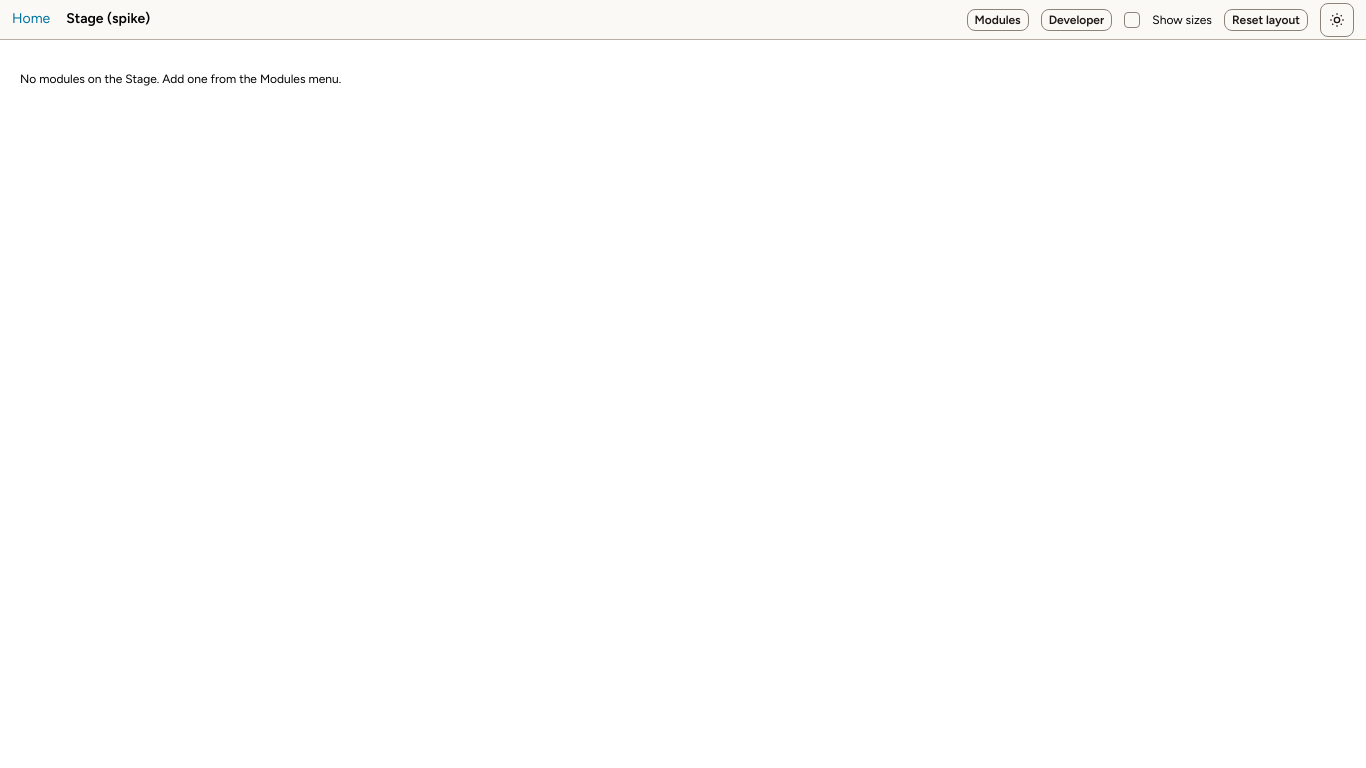
Test: Developer option › does not snap while typing, clamps on blur and persists
The width and height of the screenshot is (1366, 768).
Click the button "Developer": (1076, 20) [1041,8,1112,30]
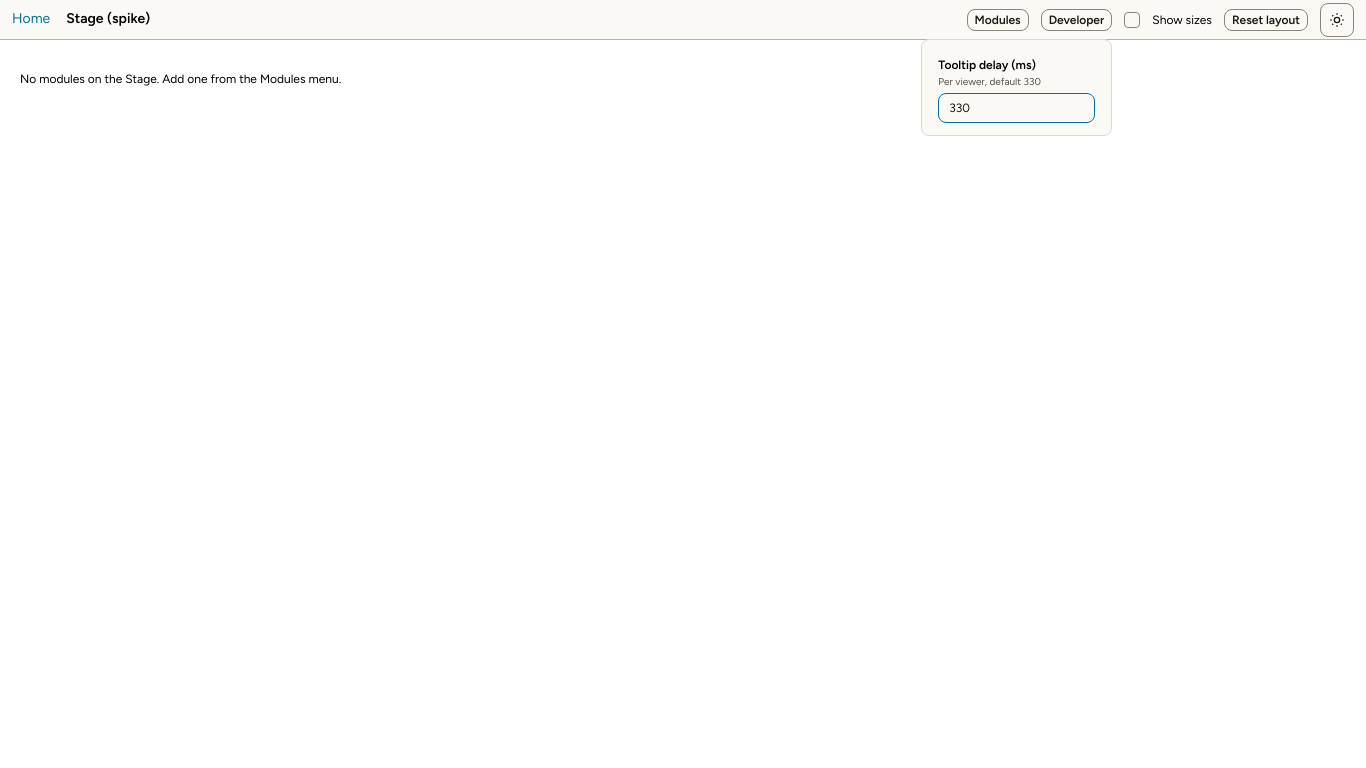
Now the field labelled "Tooltip delay (ms)" holds "330"
Clear the field labelled "Tooltip delay (ms)": (1017, 108) [938,93,1095,123]
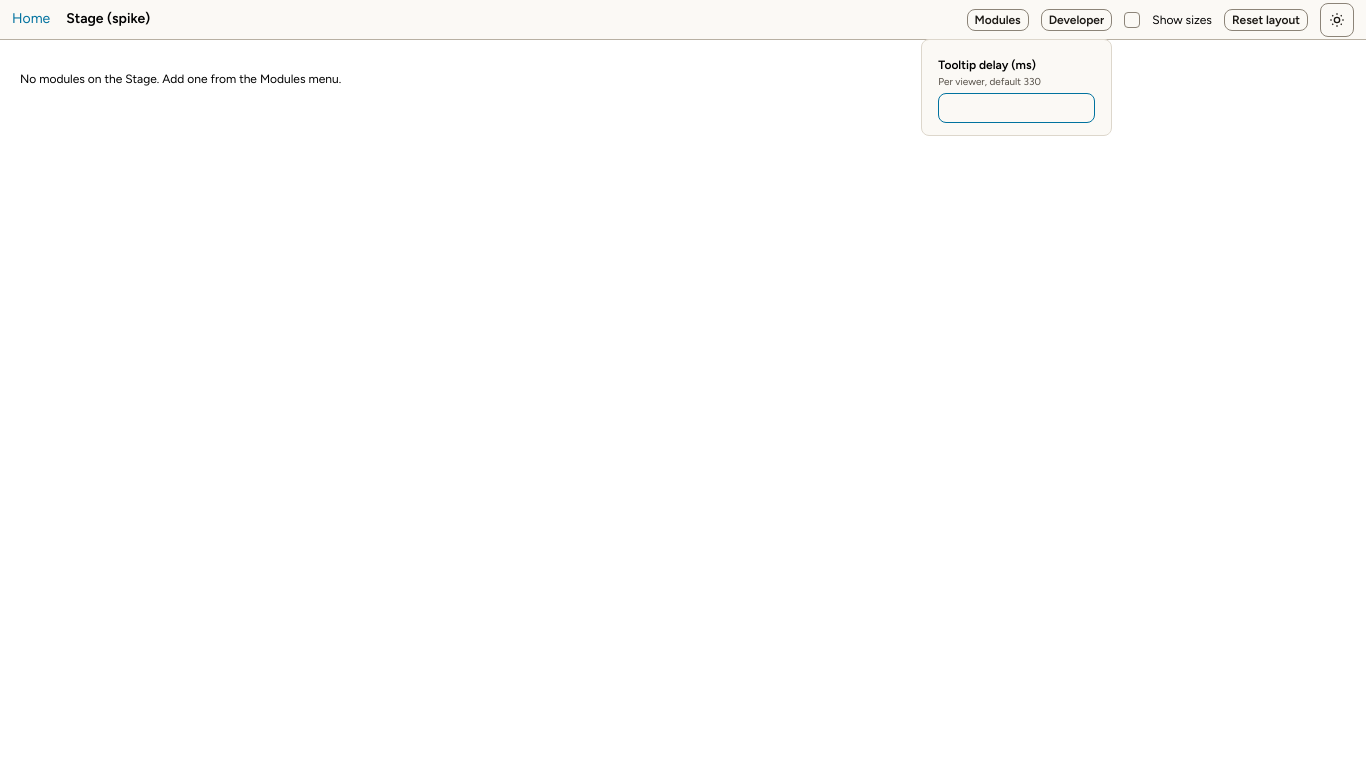
In the field labelled "Tooltip delay (ms)": (1017, 108) [938,93,1095,123], type "9999"
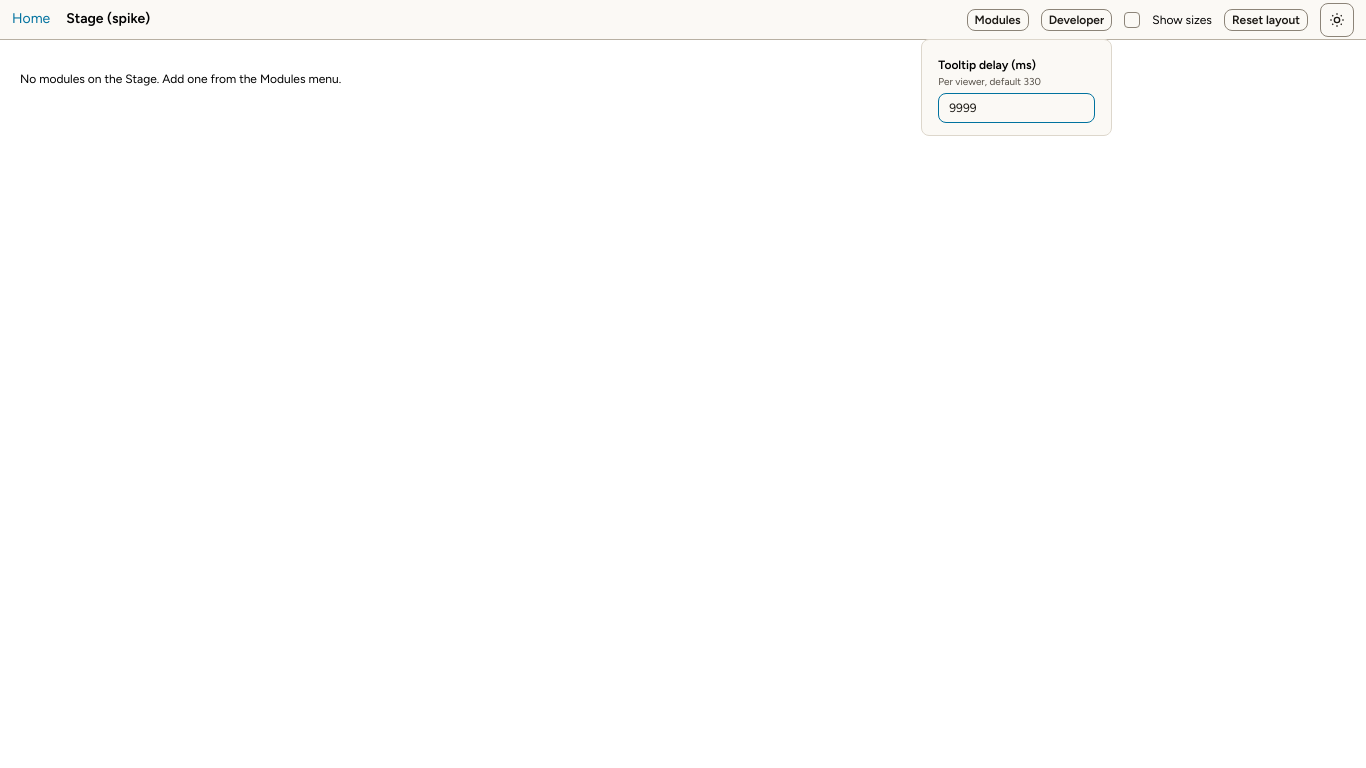
Leave the field labelled "Tooltip delay (ms)", box [938,93,1095,123]
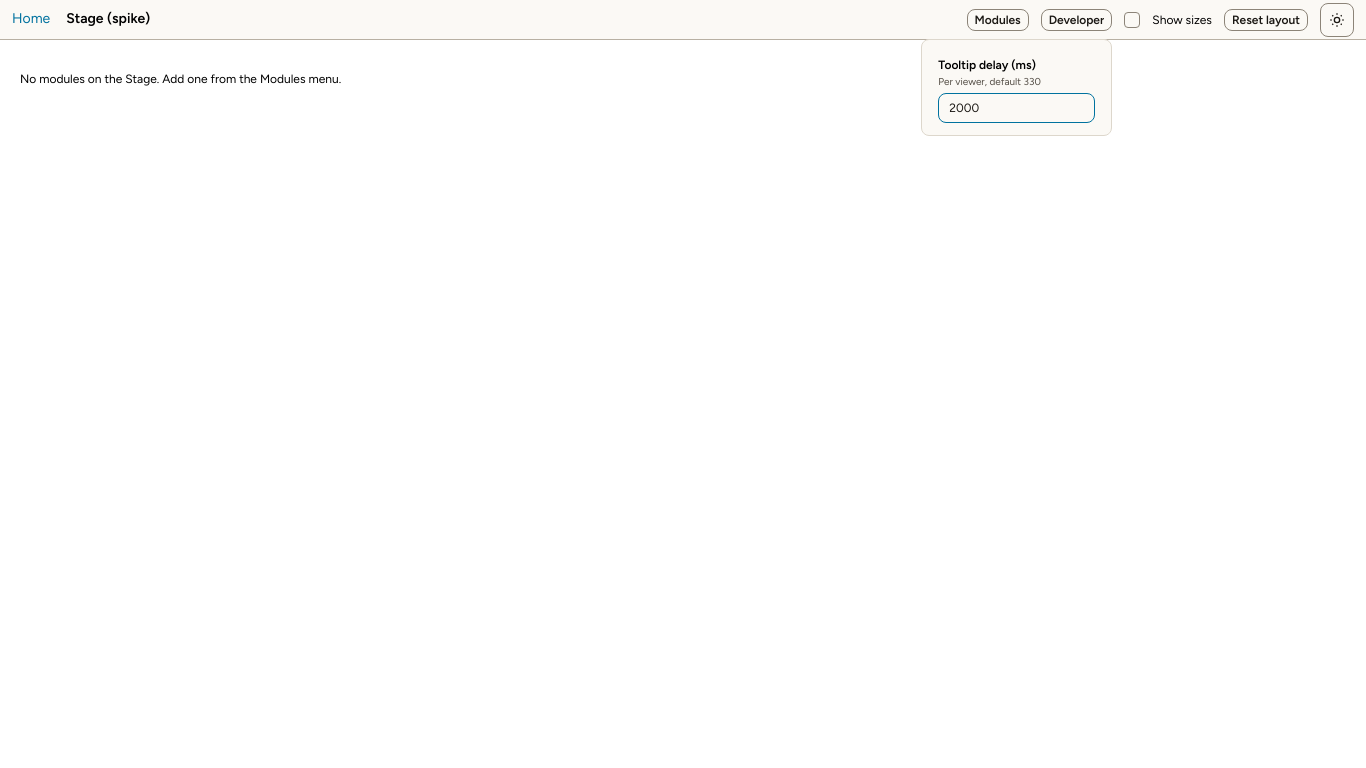
Now the field labelled "Tooltip delay (ms)" holds "2000", box [938,93,1095,123]
